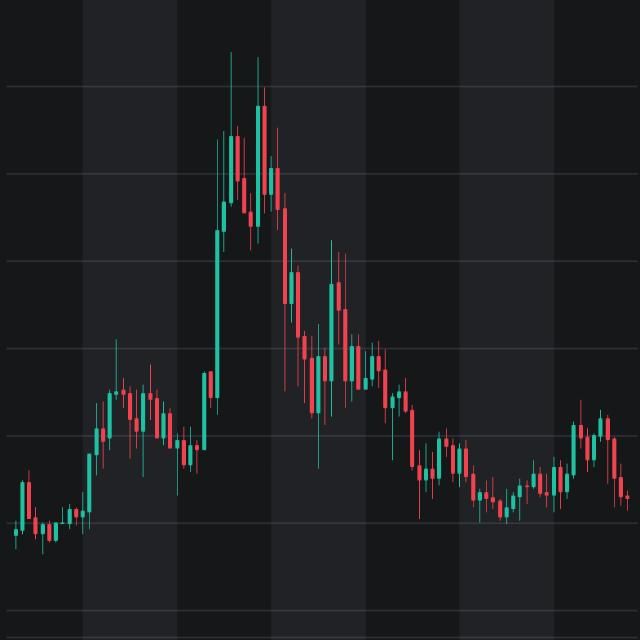Falling-Wedge: (137, 34, 473, 523)
